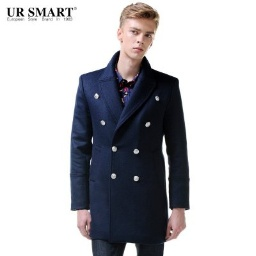face: (117, 3, 159, 60)
